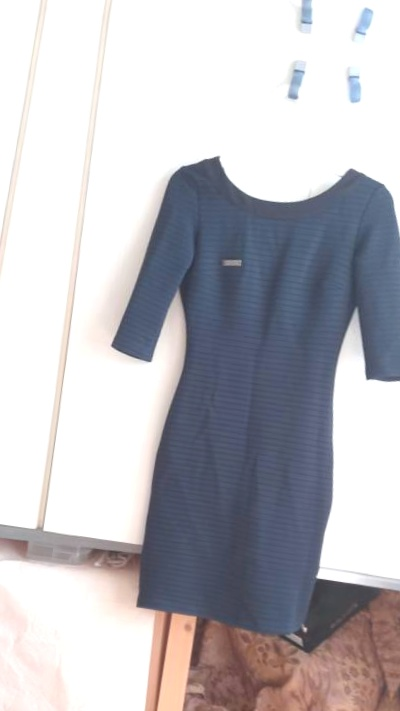Dress: (48, 108, 400, 701)
